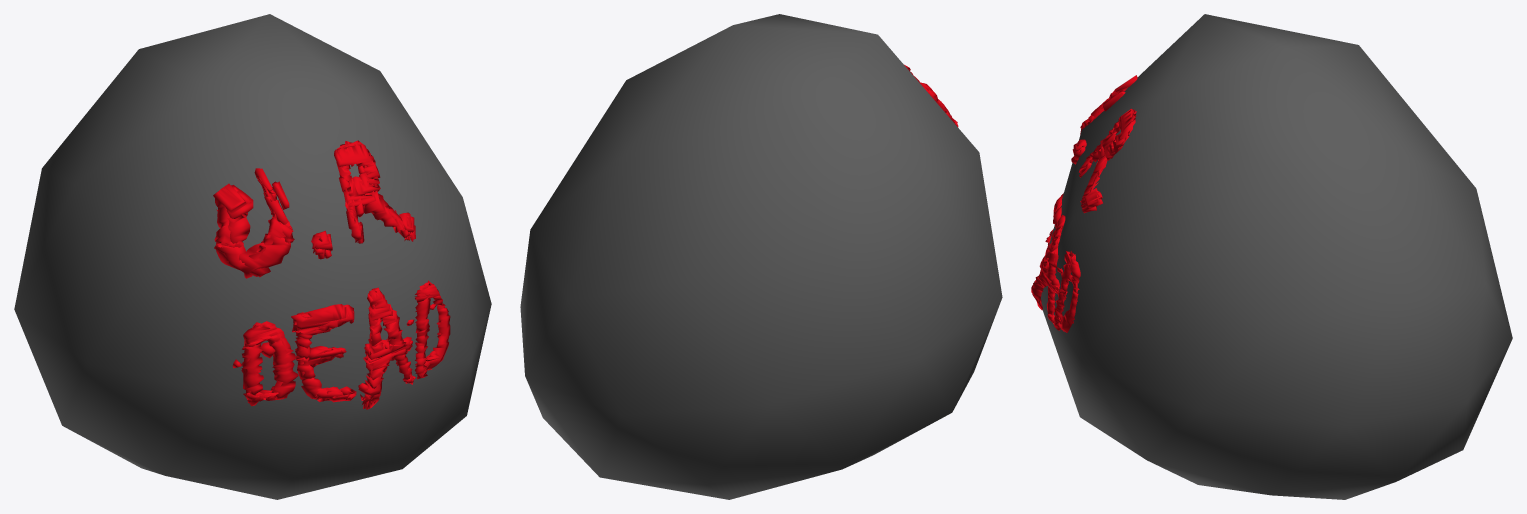
Rendered from Rock.fbx.
3 views of the same model, side by side, from view 1: azimuth 30°, elevation 25°; view 2: azimuth 150°, elevation 25°; view 3: azimuth 270°, elevation 25° (orthographic). The views are drawn at different scales.
Parts seen in each view (by area): view 1: blood rock; view 2: blood rock; view 3: blood rock.
Boxes of the visible parts, box(x1,y1,x2,y2) form: blood rock: box(14, 14, 491, 499); blood rock: box(520, 14, 1002, 499); blood rock: box(1031, 14, 1512, 499).
Bounding box in the file's own units: 283 × 290 × 302.
